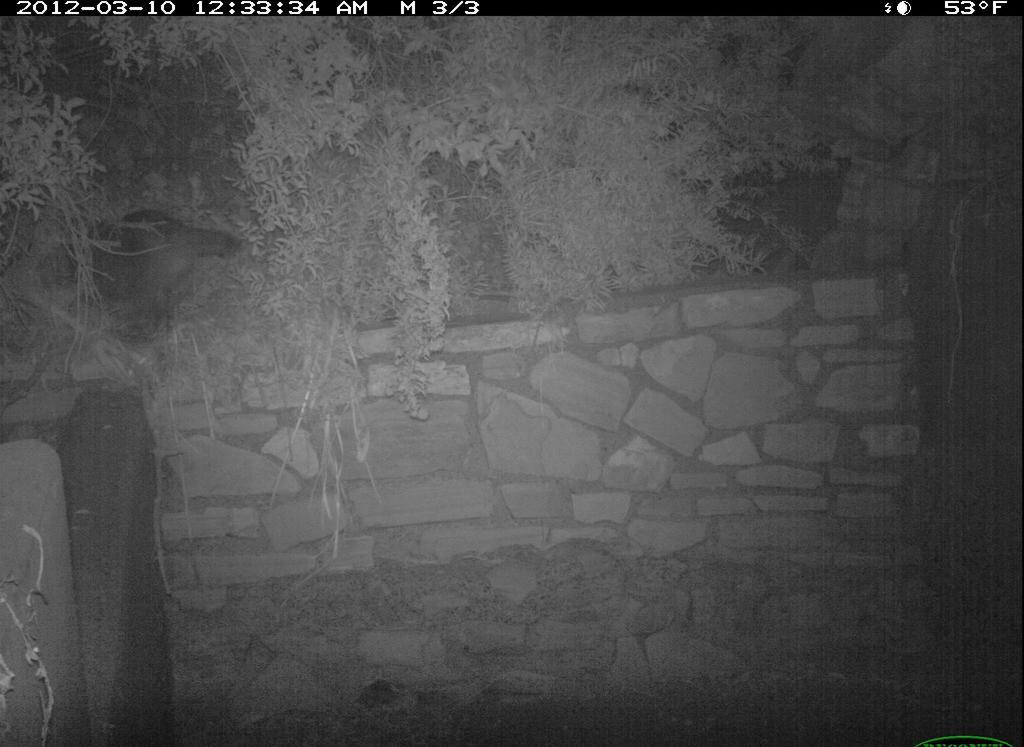raccoon: (70, 203, 259, 341)
